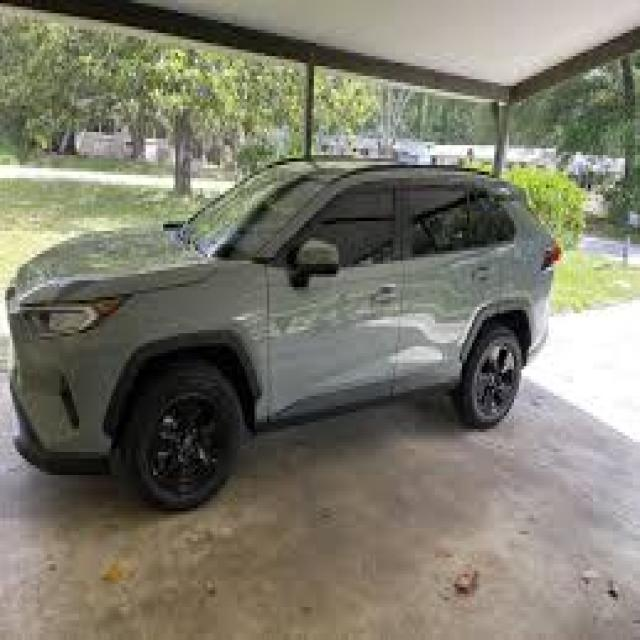light_vehicle: (5, 157, 563, 513)
